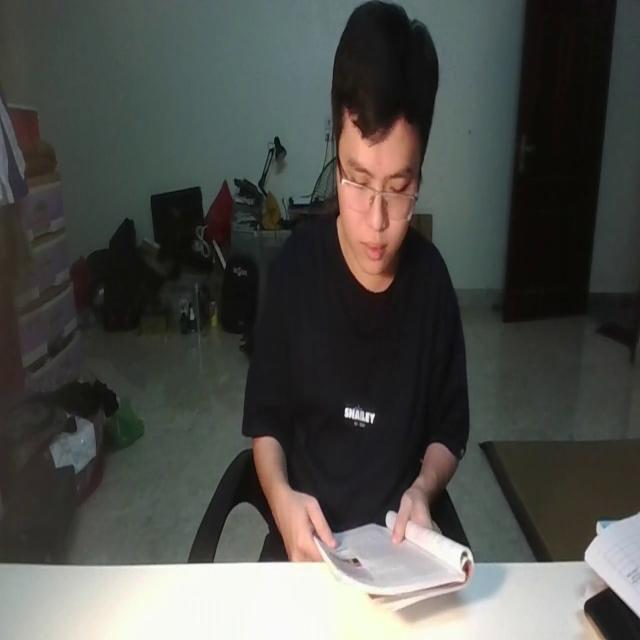book: (299, 508, 479, 609)
student: (242, 0, 469, 565)
